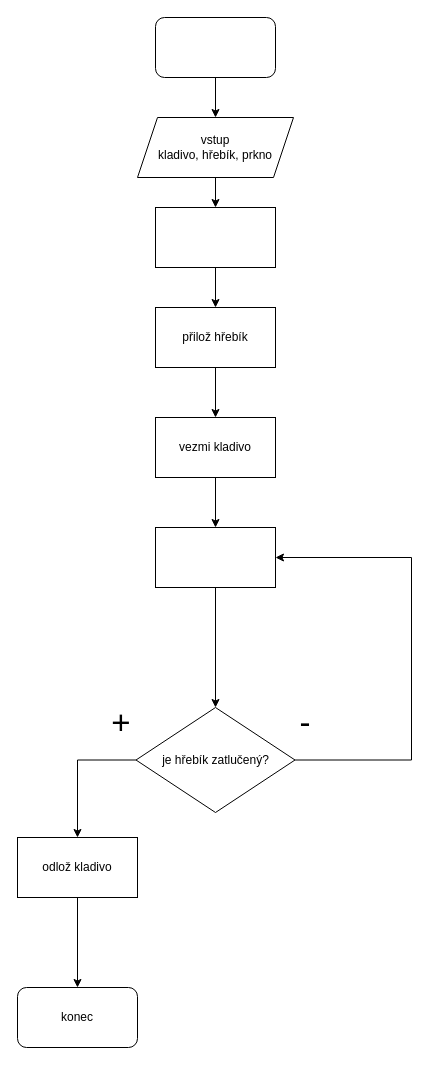
Image size: 437x1065. Some labels were removed from this diagram. The centre of each missing label's shape, as x and y in pixels:
polož prkno: point 215,237
start: point 215,47
udeř kladivem do hřebíku: point 215,557
